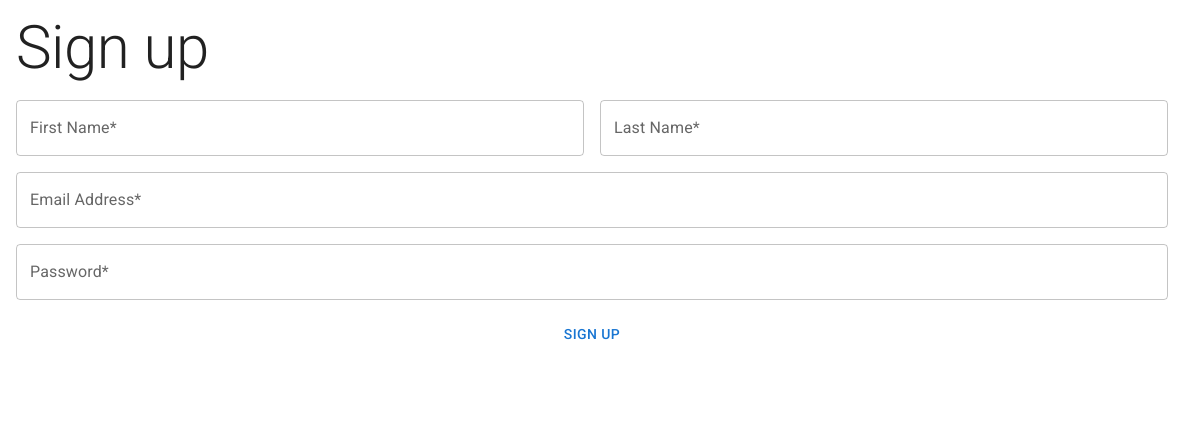
Test case: template spec › should appear message of first name is required when first name is submitted empty
This screenshot has width=1185, height=438.
Click the button with test id "signUpButton": (592, 335) [16,316,1168,353]
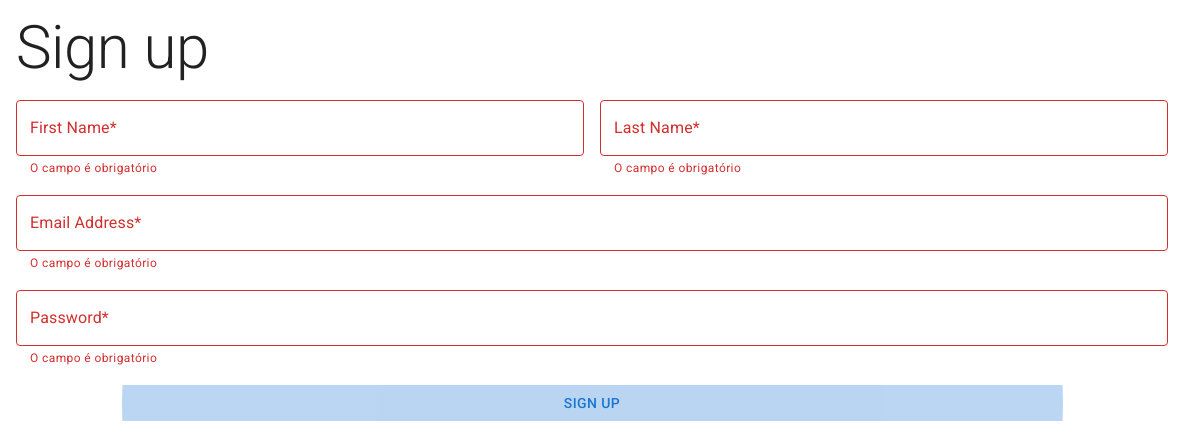
Now the text "O campo é obrigatório" below "First Name*" is shown, box [30,161,157,175]
